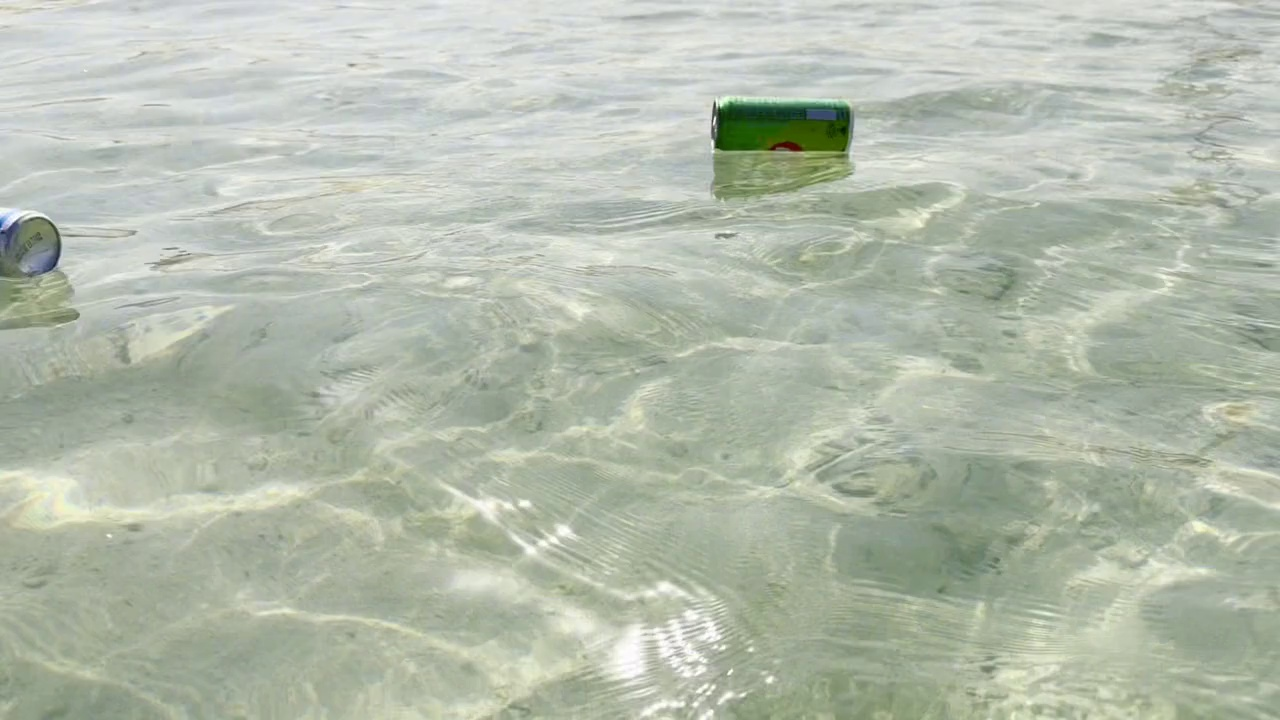debris: (704, 83, 861, 167), (0, 205, 76, 282)
